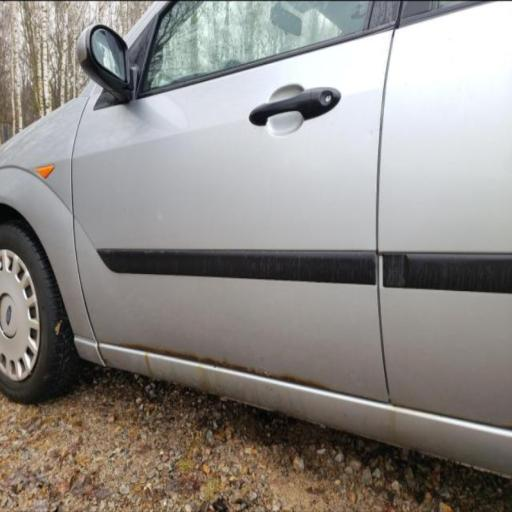rust: (133, 339, 340, 386), (227, 388, 405, 436)
